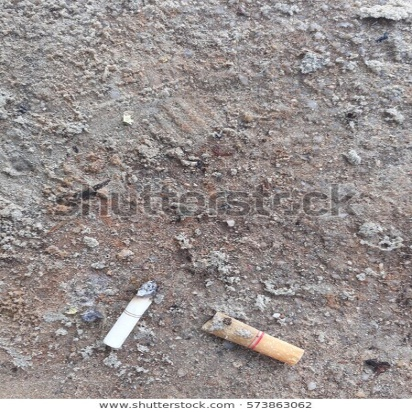cigarette: (196, 310, 309, 374), (98, 273, 165, 355)
